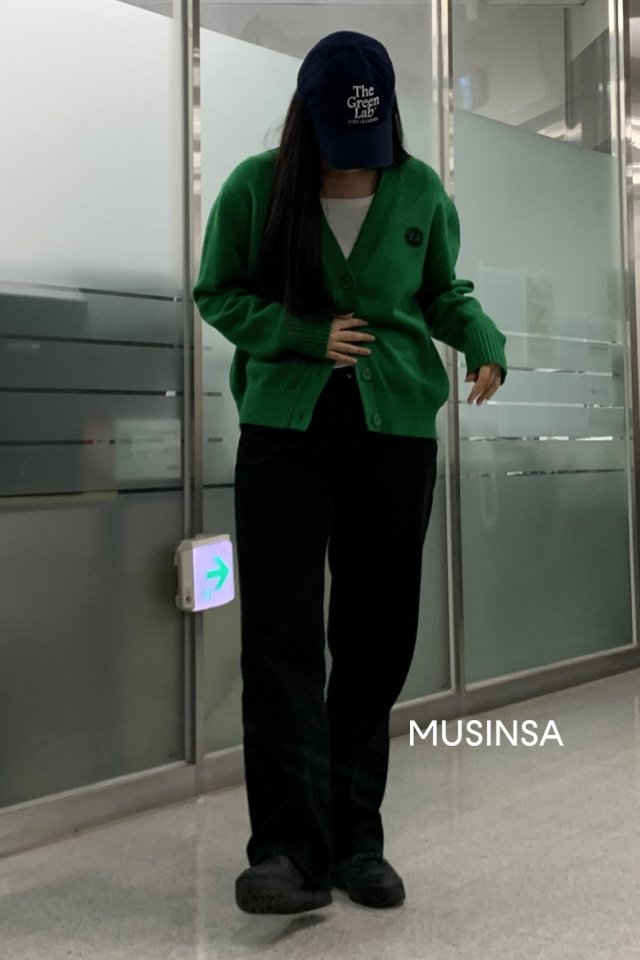Cap: (295, 28, 401, 170)
Outer: (196, 143, 512, 443)
Pants: (236, 410, 422, 860)
Shoes: (230, 848, 418, 917)
